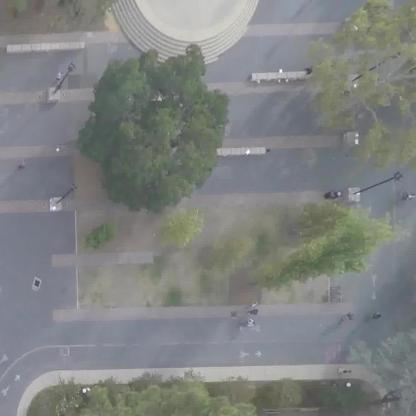Bicyclist: (336, 310, 360, 330), (240, 318, 262, 334), (370, 308, 387, 325), (247, 304, 263, 320), (247, 297, 263, 308)
Pedestrian: (16, 156, 34, 182), (52, 66, 73, 86), (302, 60, 316, 83), (335, 362, 355, 376), (399, 189, 415, 203)
